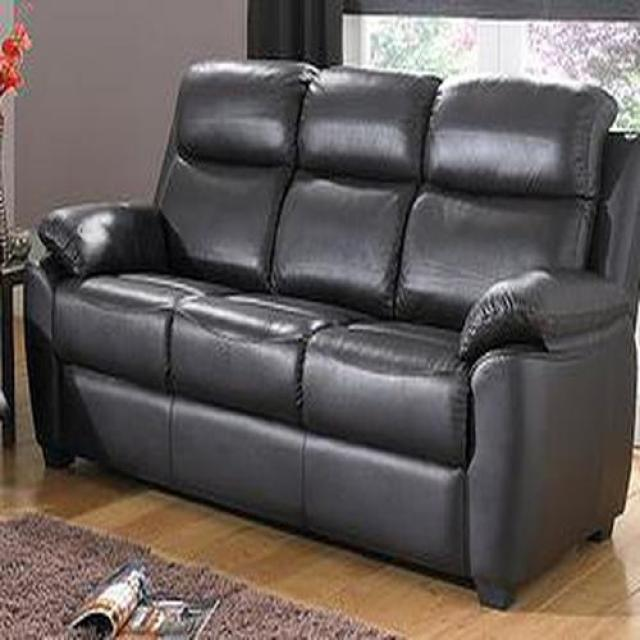sofa: (24, 60, 640, 611)
